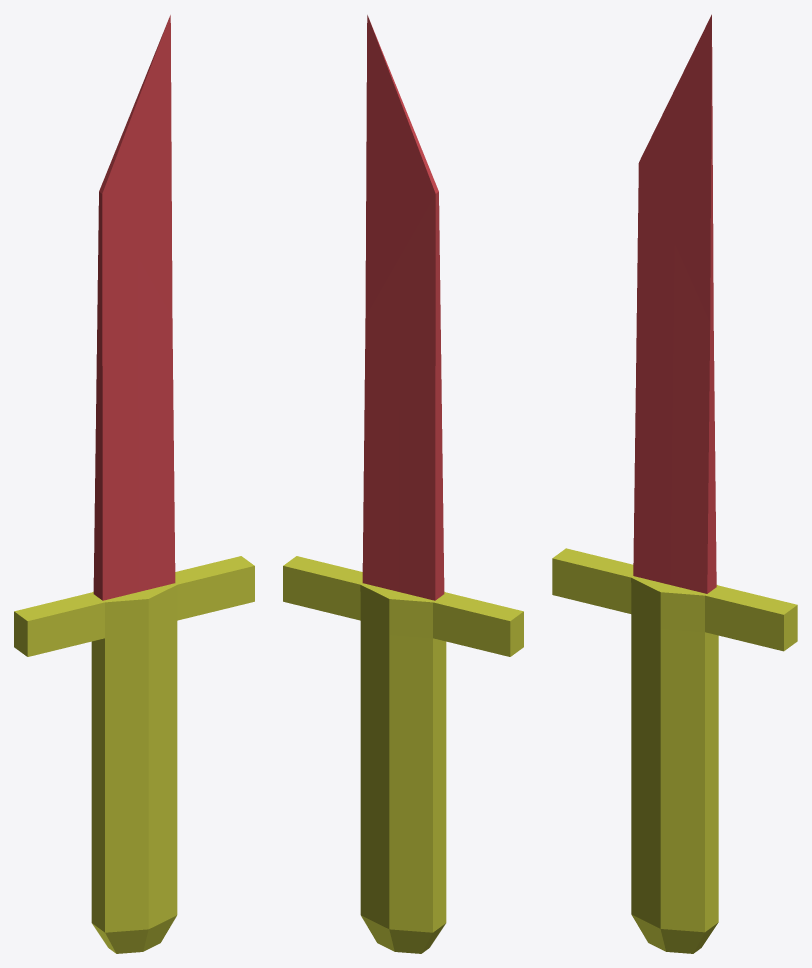
File: Knife.fbx
The picture shows the model from 3 angles, left to right: view 1: azimuth 30°, elevation 25°; view 2: azimuth 150°, elevation 25°; view 3: azimuth 330°, elevation 25°; orthographic projection.
Visible parts, largest first — view 1: Knife; view 2: Knife; view 3: Knife.
Part boxes in pixels (x1=…): Knife: x1=14, y1=15, x2=254, y2=953; Knife: x1=283, y1=15, x2=523, y2=953; Knife: x1=552, y1=14, x2=797, y2=953.
Size of the model in its own units: 66.68 by 259 by 14.43.
